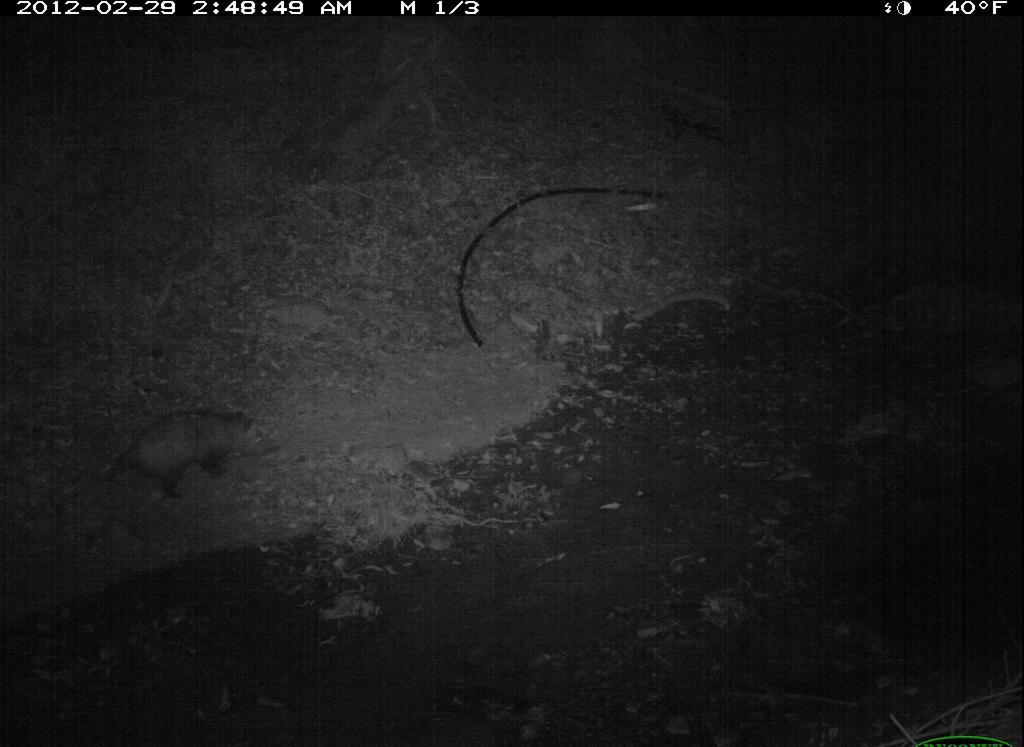opossum: (56, 406, 268, 515)
